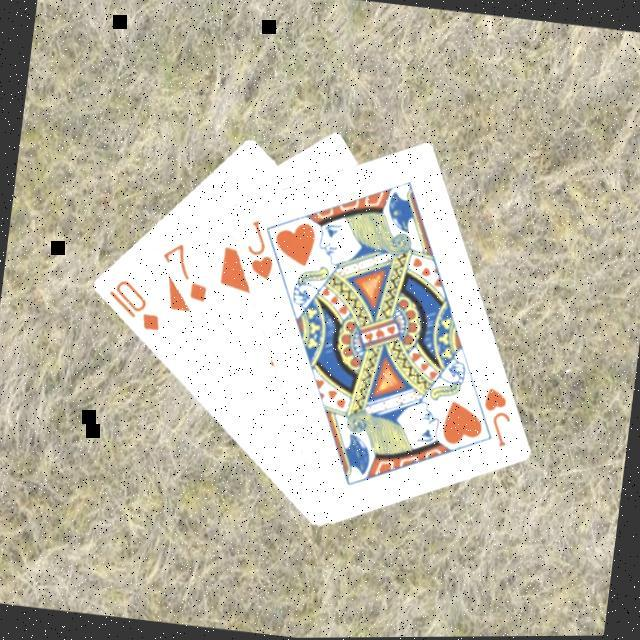10D: (102, 276, 168, 338)
7D: (156, 239, 216, 309)
JH: (475, 384, 519, 454), (240, 216, 282, 286)
